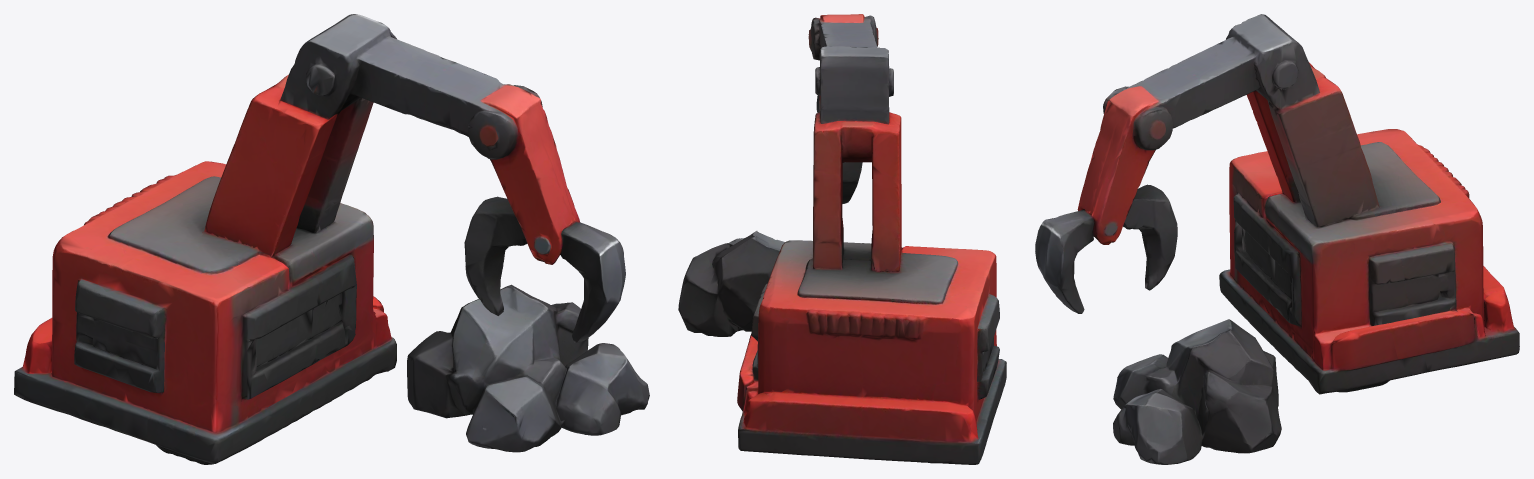
The model's file is 3D-ironexcavator.glb.
The picture shows the model from 3 angles, left to right: view 1: azimuth 30°, elevation 25°; view 2: azimuth 150°, elevation 25°; view 3: azimuth 270°, elevation 25°; orthographic projection. The views are drawn at different scales.
Parts seen in each view (by area): view 1: tripo_node_e1db35c7-dee4-4686-9deb-9a1e2b1a1b7b; view 2: tripo_node_e1db35c7-dee4-4686-9deb-9a1e2b1a1b7b; view 3: tripo_node_e1db35c7-dee4-4686-9deb-9a1e2b1a1b7b.
Boxes of the visible parts, bbox=[...] form: tripo_node_e1db35c7-dee4-4686-9deb-9a1e2b1a1b7b: bbox=[14, 14, 649, 464]; tripo_node_e1db35c7-dee4-4686-9deb-9a1e2b1a1b7b: bbox=[678, 14, 1006, 464]; tripo_node_e1db35c7-dee4-4686-9deb-9a1e2b1a1b7b: bbox=[1035, 14, 1519, 464].
Size of the model in its own units: 0.9798 by 0.7578 by 0.9773.
1 material, 1 textured.
